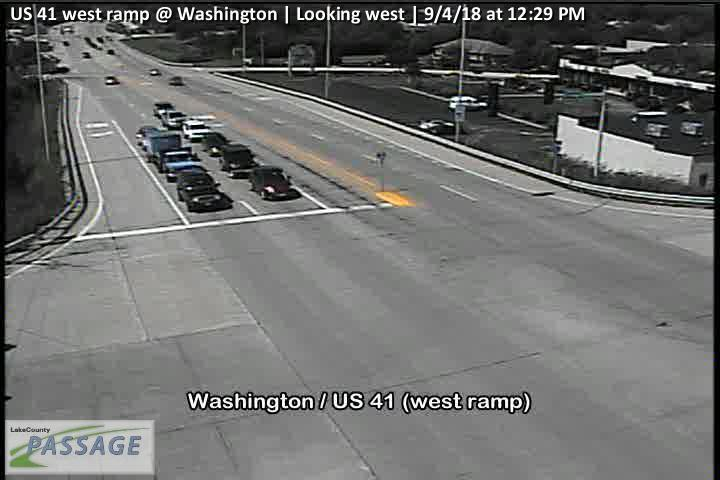SUV: (174, 174, 227, 211), (219, 144, 259, 179), (448, 94, 488, 112), (203, 131, 230, 157), (183, 119, 210, 142), (163, 109, 185, 126), (168, 76, 184, 86)
Sedan: (143, 132, 202, 181), (247, 166, 295, 203), (414, 118, 465, 138), (153, 100, 174, 117), (136, 126, 149, 146), (103, 75, 119, 87), (147, 68, 160, 77)
